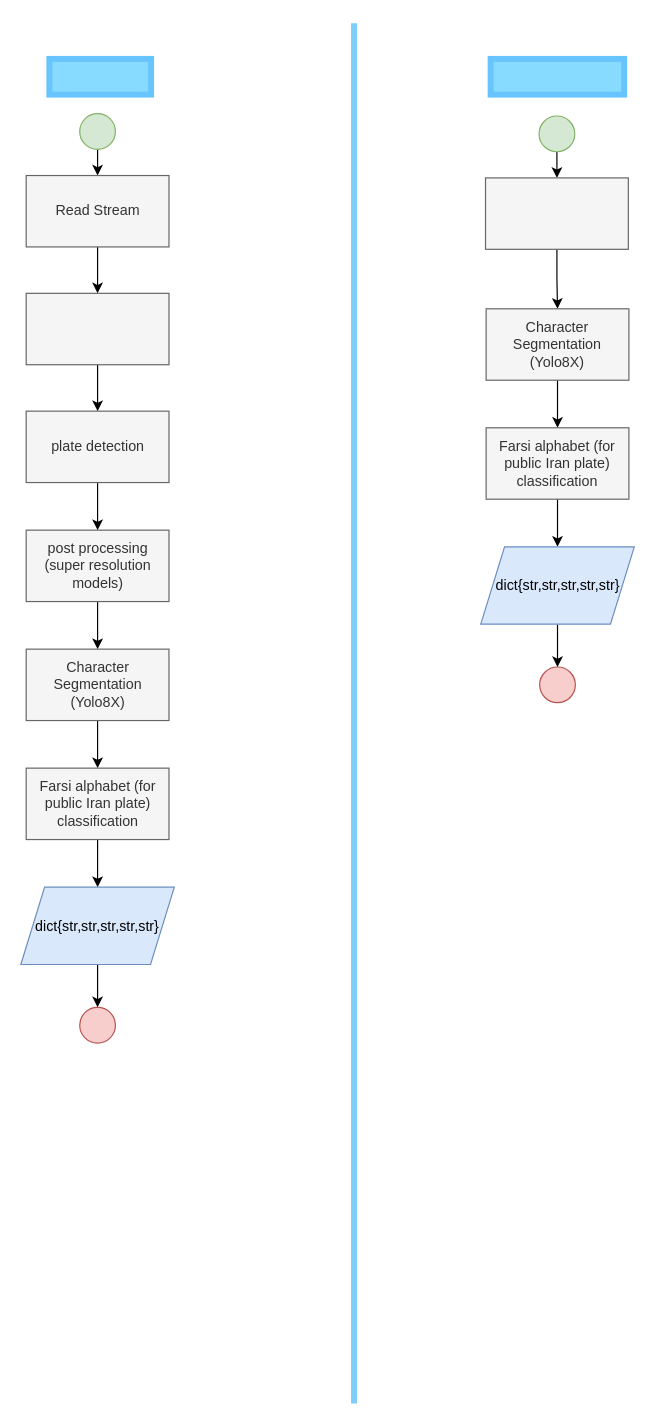
Some shapes in this 656 by 1428 pixel diagram are drawn without their labels. Each missing label, with the centre of its shape:
Current Version: (557,76)
Full Version: (100,76)
preprocess: (97,328)
Read Image: (556,213)
